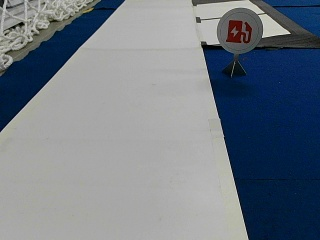battery: (216, 6, 262, 54)
